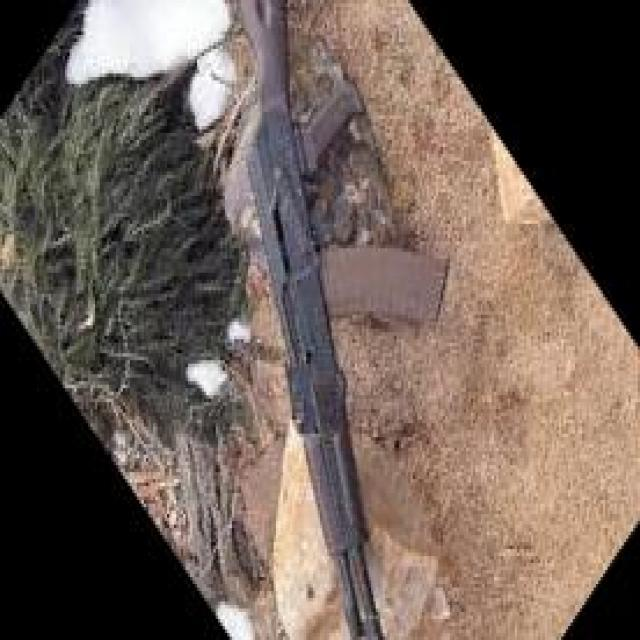weapon: (242, 0, 452, 640)
